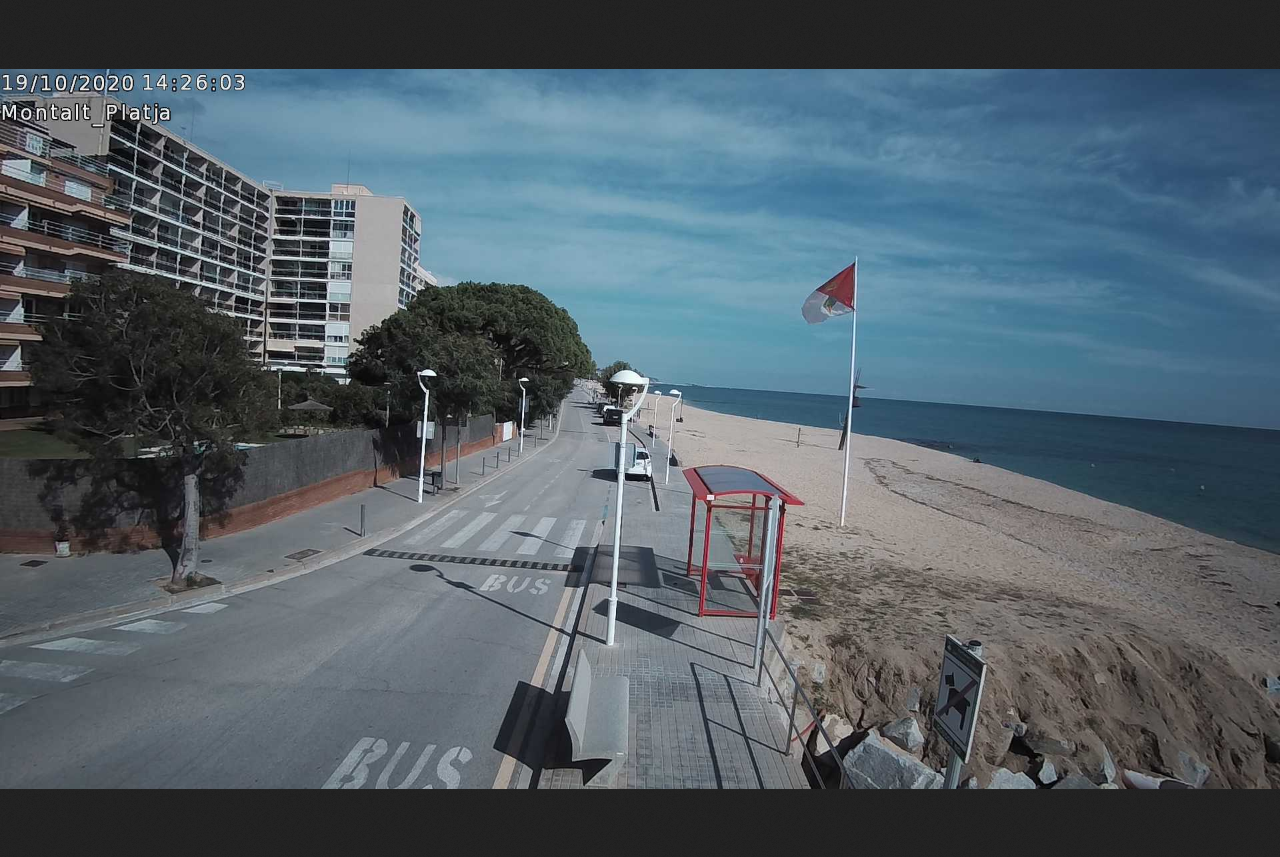yes: (802, 265, 856, 328)
